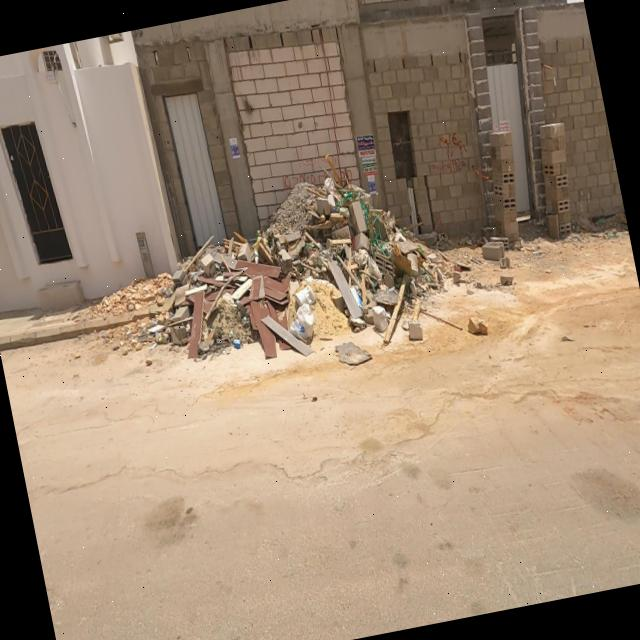Graffiti: (279, 143, 329, 191), (427, 129, 474, 179), (340, 167, 355, 184)
